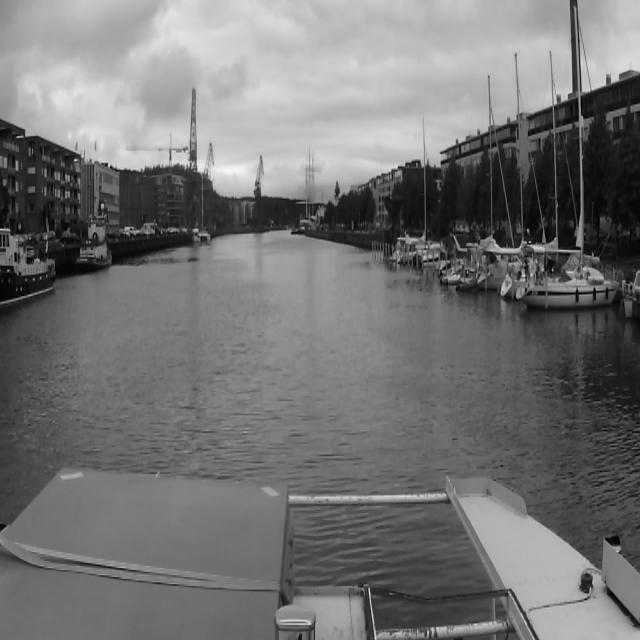ship: (516, 4, 620, 312), (449, 81, 549, 306), (392, 109, 444, 264), (0, 228, 58, 310), (76, 202, 112, 274), (296, 148, 322, 220), (200, 172, 210, 242), (456, 278, 478, 294), (440, 273, 460, 286), (192, 228, 200, 242)
